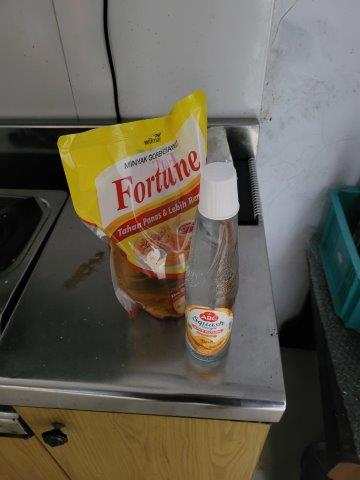botolkaca: (186, 162, 239, 365)
